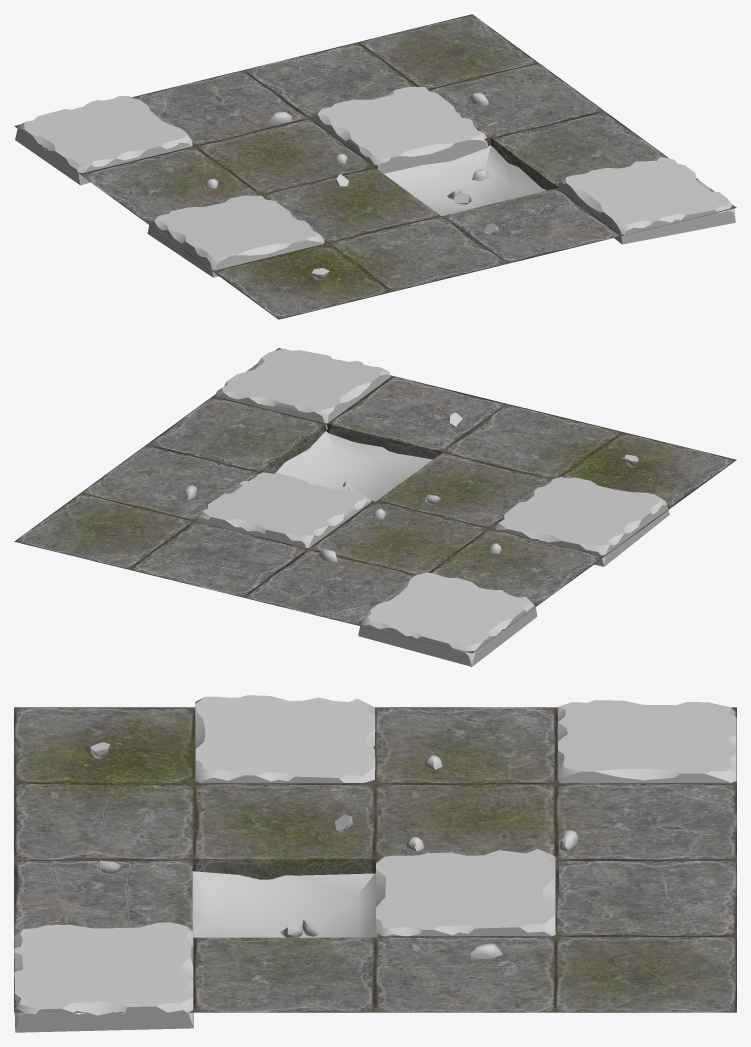
The model's file is Floor_Lvl2_6.fbx.
The picture shows the model from 3 angles, top to bottom: view 1: azimuth 30°, elevation 25°; view 2: azimuth 150°, elevation 25°; view 3: azimuth 270°, elevation 25°; orthographic projection. The views are drawn at different scales.
Parts seen in each view (by area): view 1: StoneFloor_Details.004; view 2: StoneFloor_Details.004; view 3: StoneFloor_Details.004.
Part boxes in pixels (x1,y1,x2,y2): StoneFloor_Details.004: (14,14,736,319); StoneFloor_Details.004: (14,348,736,666); StoneFloor_Details.004: (14,695,736,1032).
Size of the model in its own units: 382 by 31.87 by 382.
